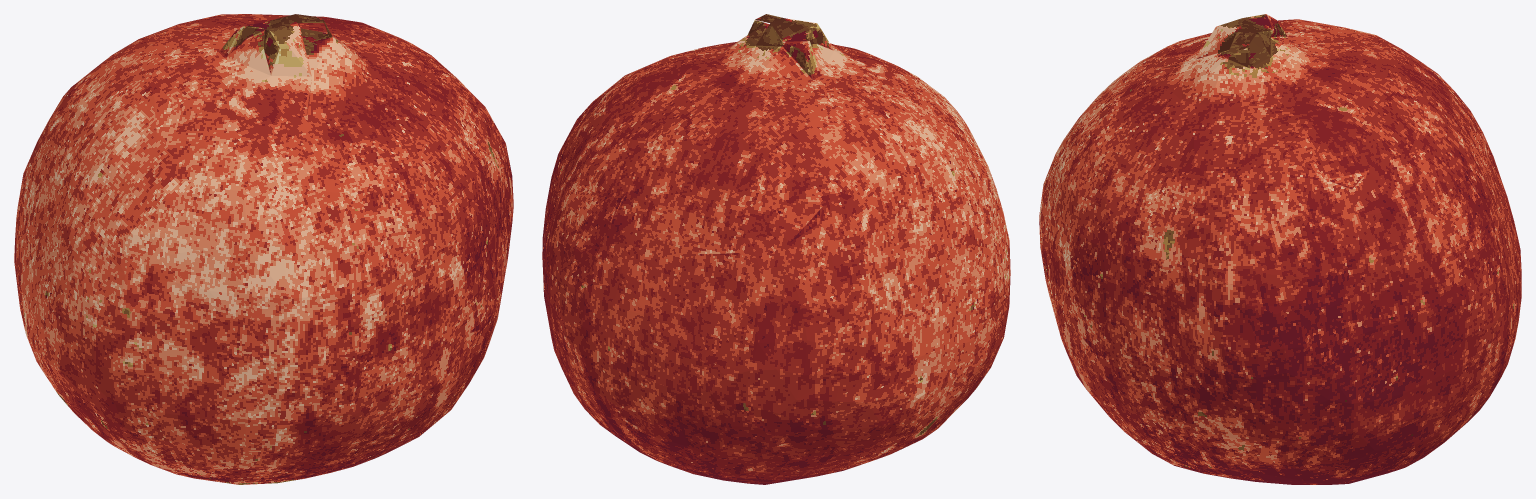
File: pomegranate.glb
The picture shows the model from 3 angles, left to right: view 1: azimuth 30°, elevation 25°; view 2: azimuth 150°, elevation 25°; view 3: azimuth 270°, elevation 25°; orthographic projection. The views are drawn at different scales.
Visible parts, largest first — view 1: model_m; view 2: model_m; view 3: model_m.
Part boxes in pixels (<box>): model_m: <box>14,14,513,484</box>; model_m: <box>542,14,1010,484</box>; model_m: <box>1039,14,1521,484</box>.
Bounding box in the file's own units: 33.54 × 31.67 × 31.92.
1 material, 1 textured.
